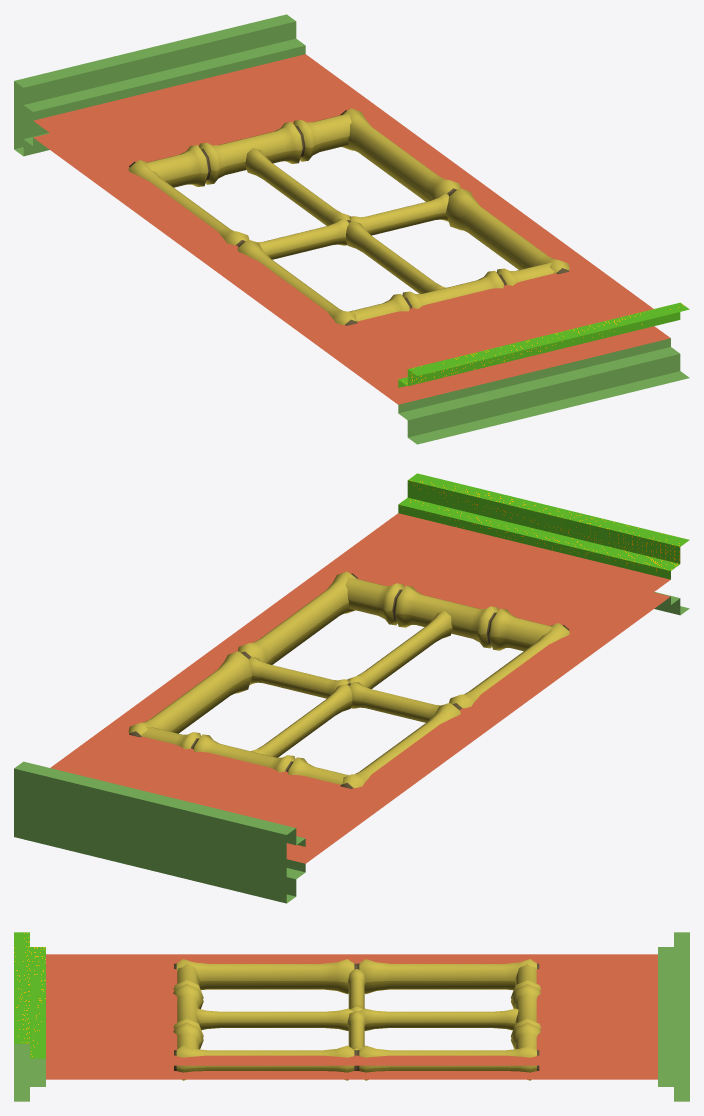
The model's file is Env_Wall_Window.fbx.
3 views of the same model, one above another, from view 1: azimuth 30°, elevation 25°; view 2: azimuth 150°, elevation 25°; view 3: azimuth 270°, elevation 25° (orthographic). The views are drawn at different scales.
Parts seen in each view (by area): view 1: Env_Wall_Window; view 2: Env_Wall_Window; view 3: Env_Wall_Window.
Boxes of the visible parts, <box> form: Env_Wall_Window: <box>14,14,689,444</box>; Env_Wall_Window: <box>14,473,689,903</box>; Env_Wall_Window: <box>14,932,689,1101</box>.
Size of the model in its own units: 1 by 0.2401 by 2.56.
